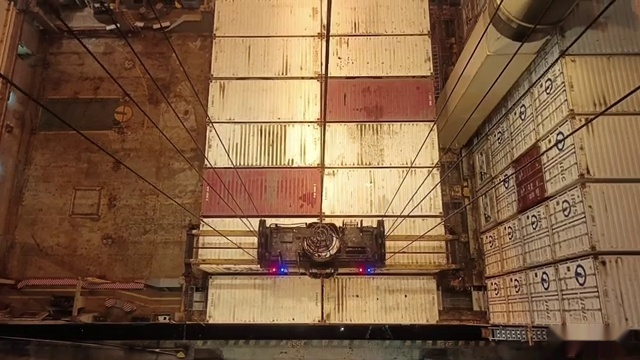container: (186, 218, 451, 275), (199, 168, 442, 216), (207, 277, 442, 324), (203, 123, 441, 167), (206, 77, 438, 121), (211, 37, 434, 78), (212, 0, 434, 37)
guide_mark: (62, 345, 561, 360), (97, 346, 541, 358)
spreader: (181, 213, 465, 277)
target_slot: (185, 216, 450, 273)
